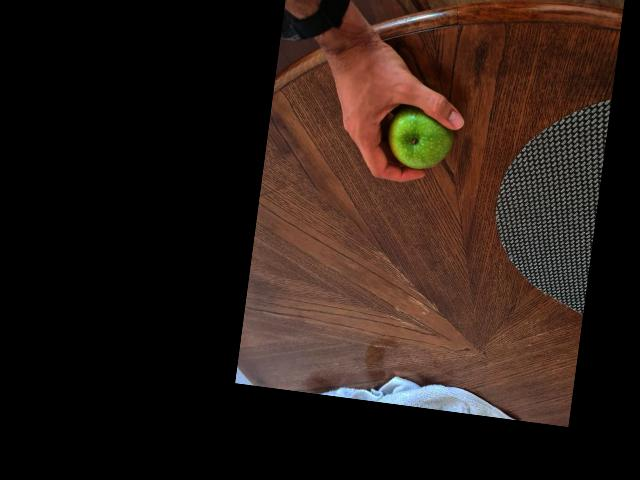apple: (388, 107, 461, 170)
